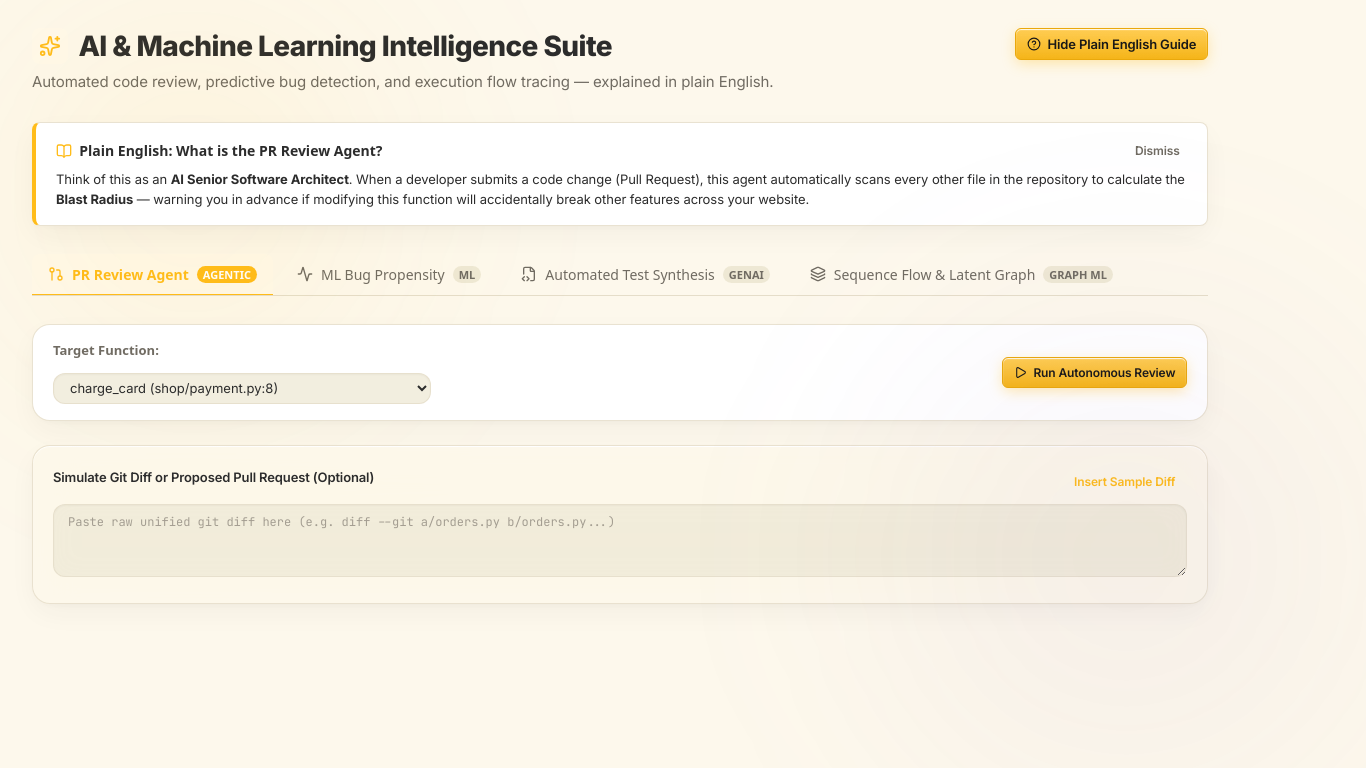
Intelligence Suite Screen Tests › renders PR Review Agent verdict and breaking contract risks
Click the button "Run Autonomous Review": (1094, 372) x1=1002 y1=357 x2=1187 y2=388
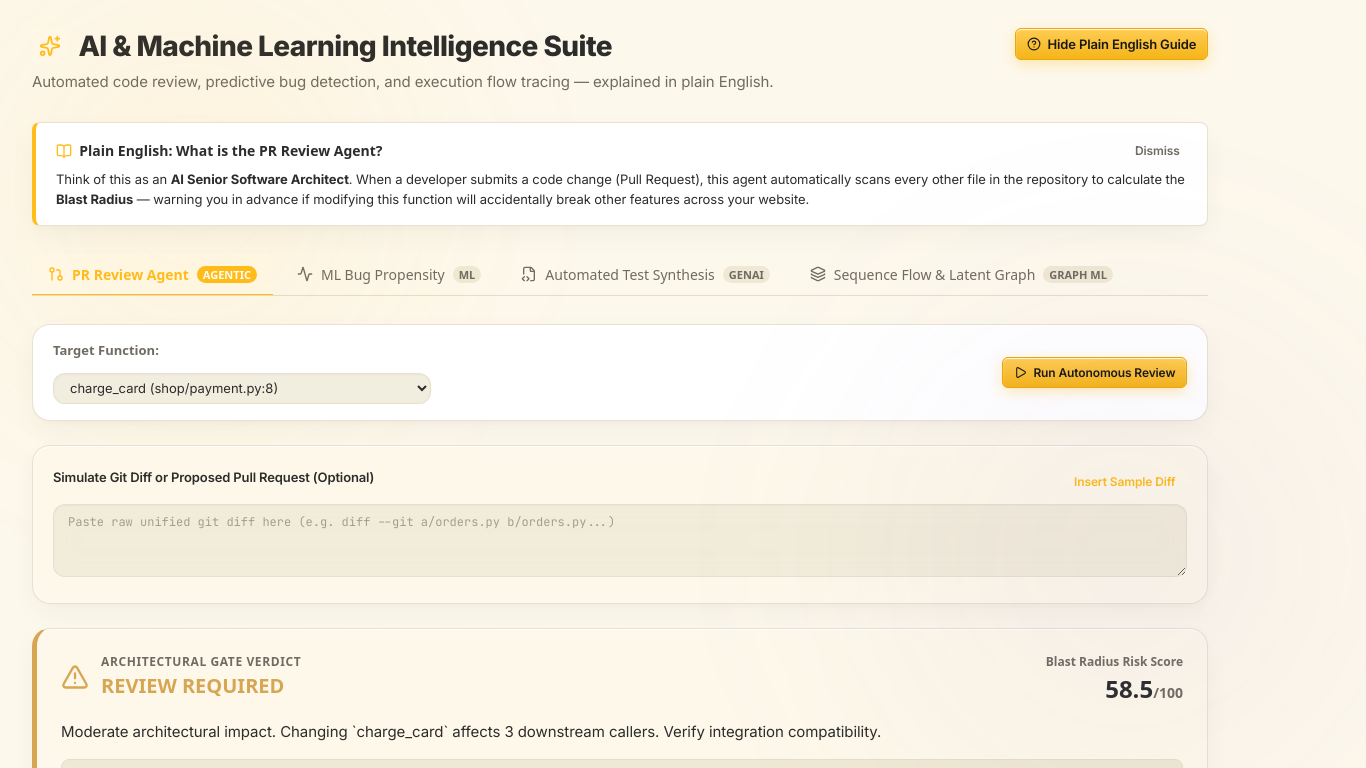
Expected: the text "Architectural Gate Verdict" is shown, x1=101 y1=653 x2=301 y2=671
Expected: the text "Blast Radius Risk Score" is shown, x1=1046 y1=653 x2=1183 y2=671
